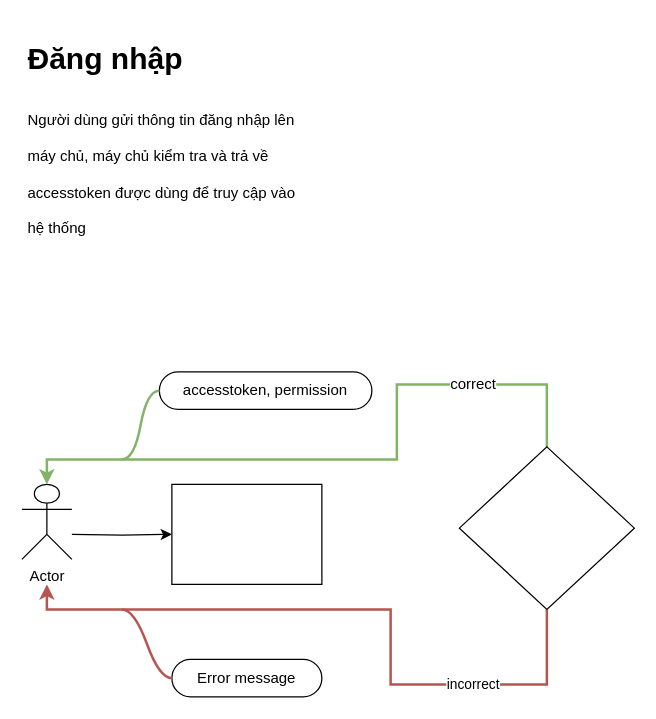
This 656x719 diagram has some shape labels left out. The box of each missing label's shape, as (x1, y1, x2, y2) in pixels:
Login: (171, 483, 322, 584)
Login info is correct?: (458, 446, 634, 609)
